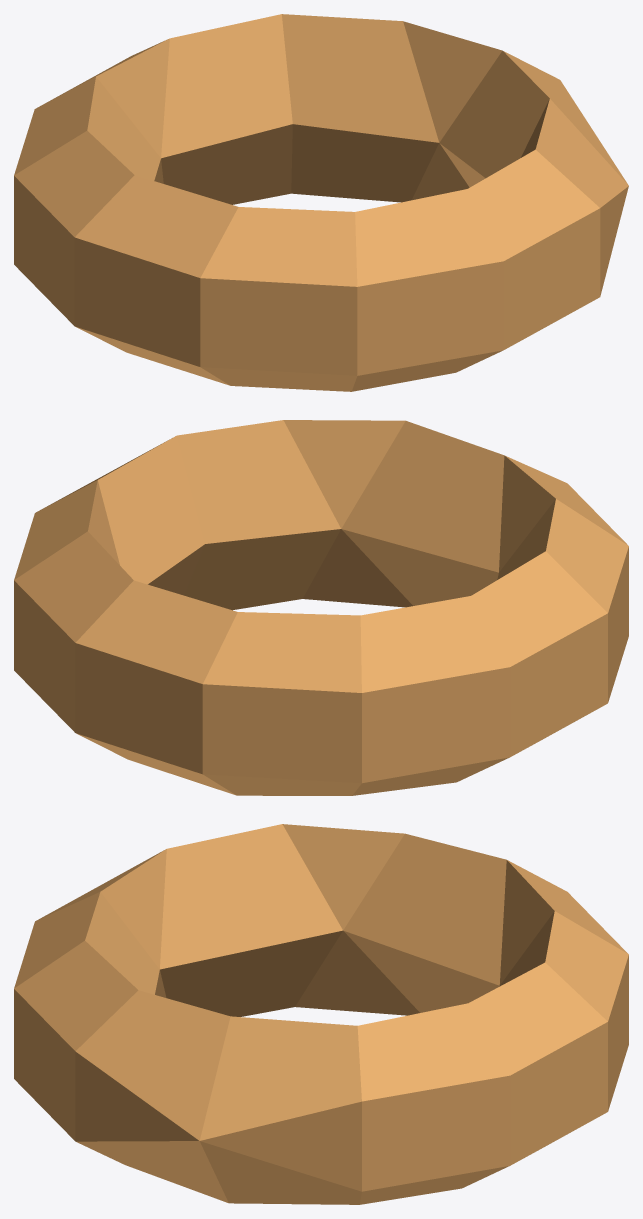
The model's file is Kitchen_Ingredients_O_s_.fbx.
3 renders of one model, top to bottom at view 1: azimuth 30°, elevation 25°; view 2: azimuth 150°, elevation 25°; view 3: azimuth 270°, elevation 25°, orthographic.
Parts seen in each view (by area): view 1: O:s; view 2: O:s; view 3: O:s.
Part boxes in pixels (left/top/right/bottom): O:s: left=14, top=14, right=628, bottom=391; O:s: left=14, top=420, right=628, bottom=795; O:s: left=14, top=824, right=628, bottom=1204.
Bounding box in the file's own units: 1.5 × 0.5 × 1.5.
